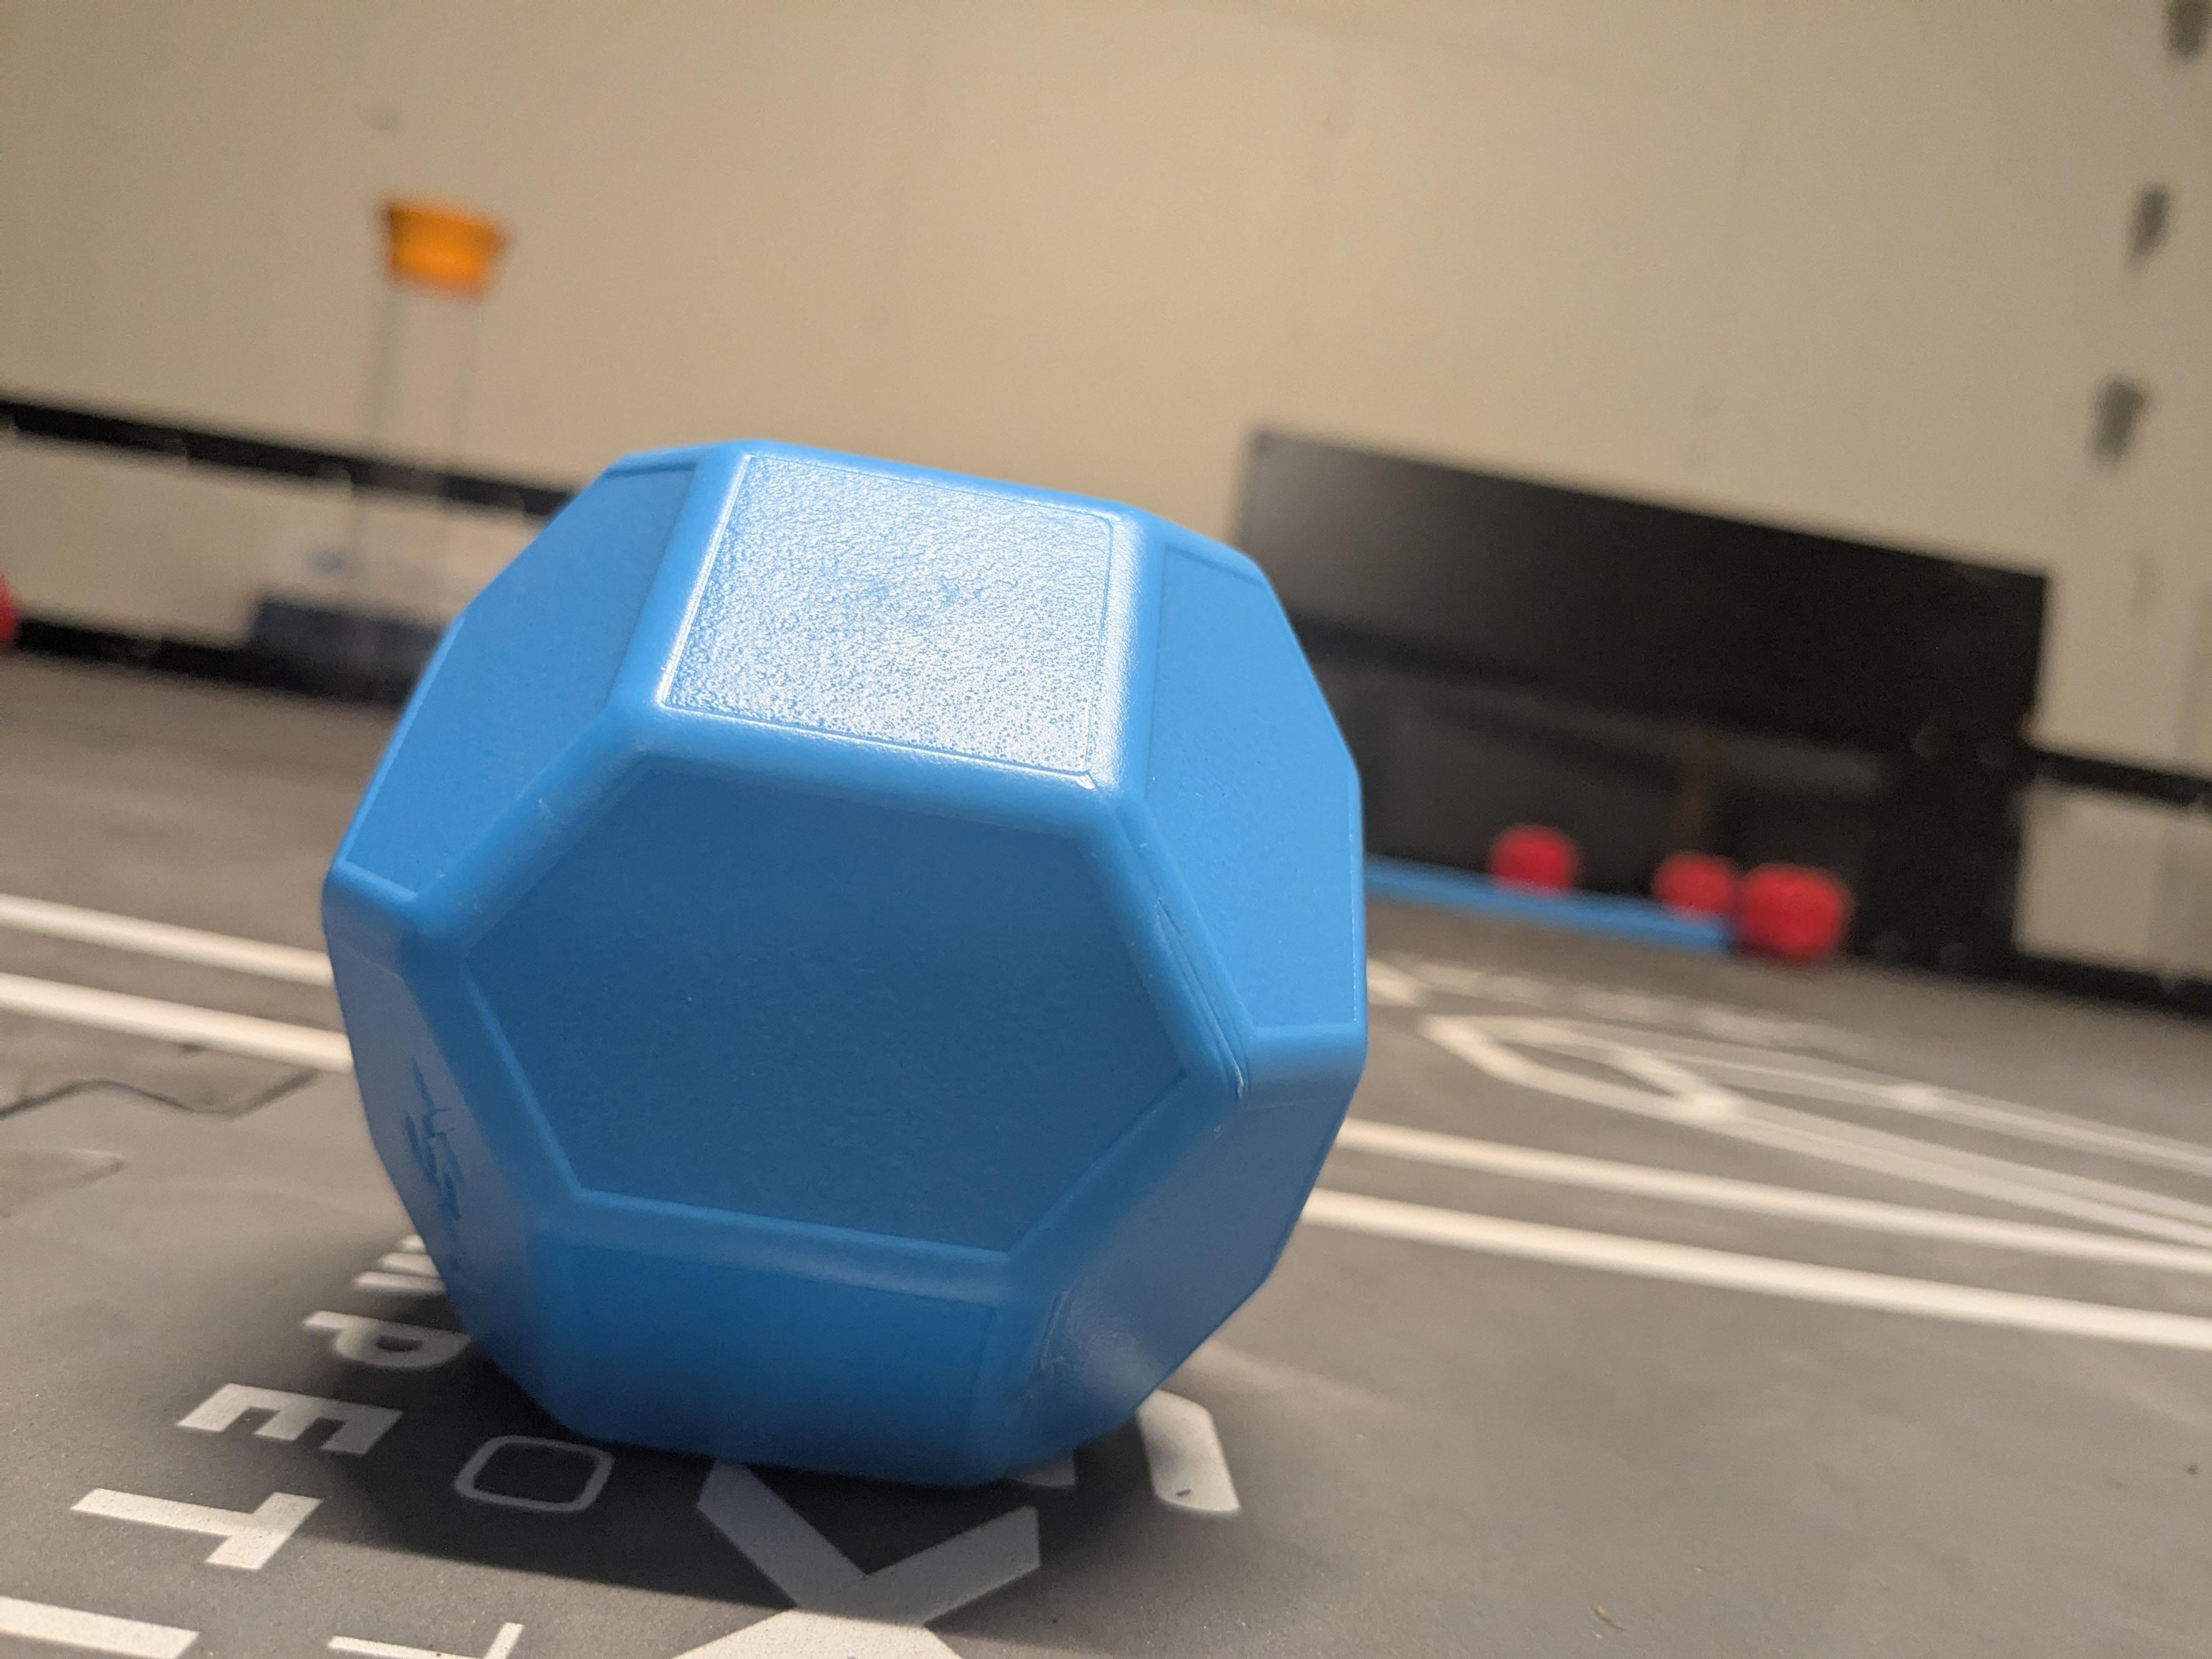Vex-Pieces-BLUE: (324, 441, 1366, 1485)
